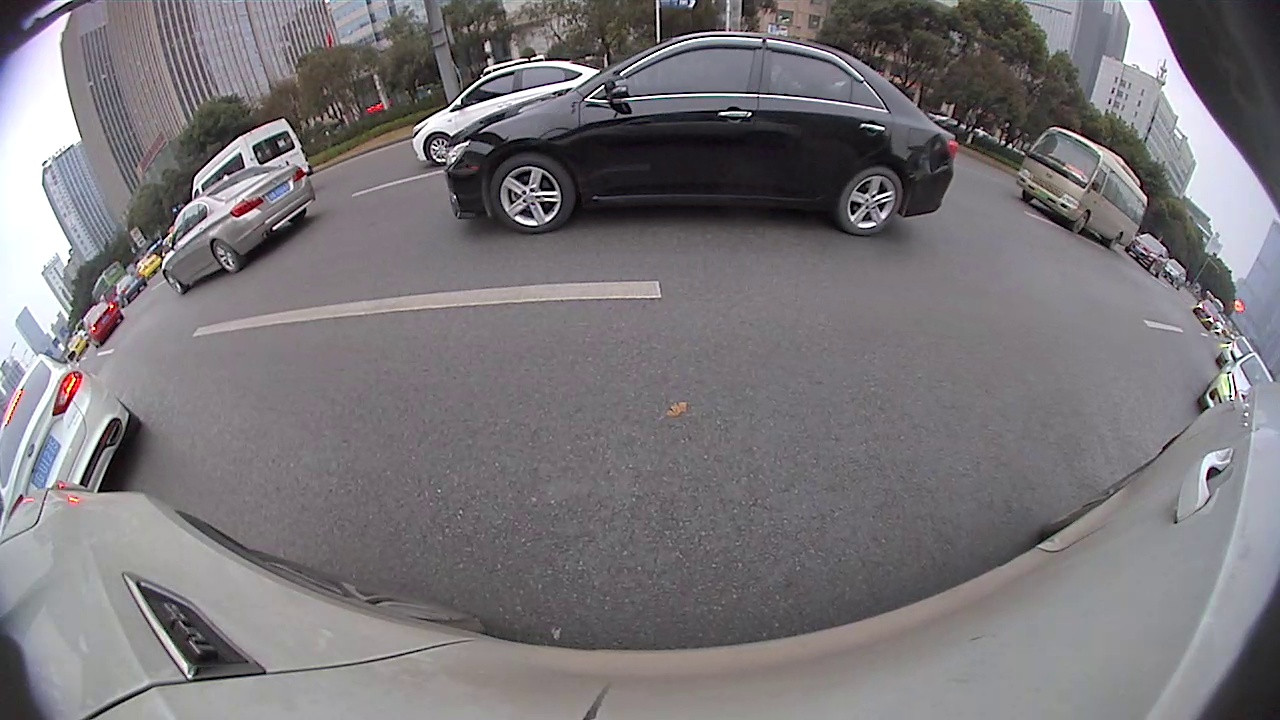bus: (1016, 127, 1150, 249)
car: (438, 31, 957, 236), (1, 355, 140, 528), (160, 165, 318, 295), (414, 57, 598, 164), (191, 120, 305, 203), (1201, 349, 1275, 410)
front: (486, 149, 578, 235), (425, 132, 454, 163), (162, 268, 186, 296), (1070, 211, 1094, 236)
rear: (838, 168, 906, 236), (209, 238, 240, 274)
